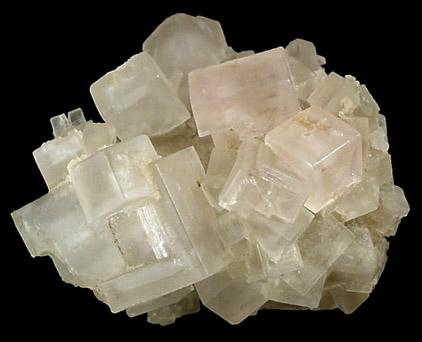halite: (12, 14, 410, 325)
